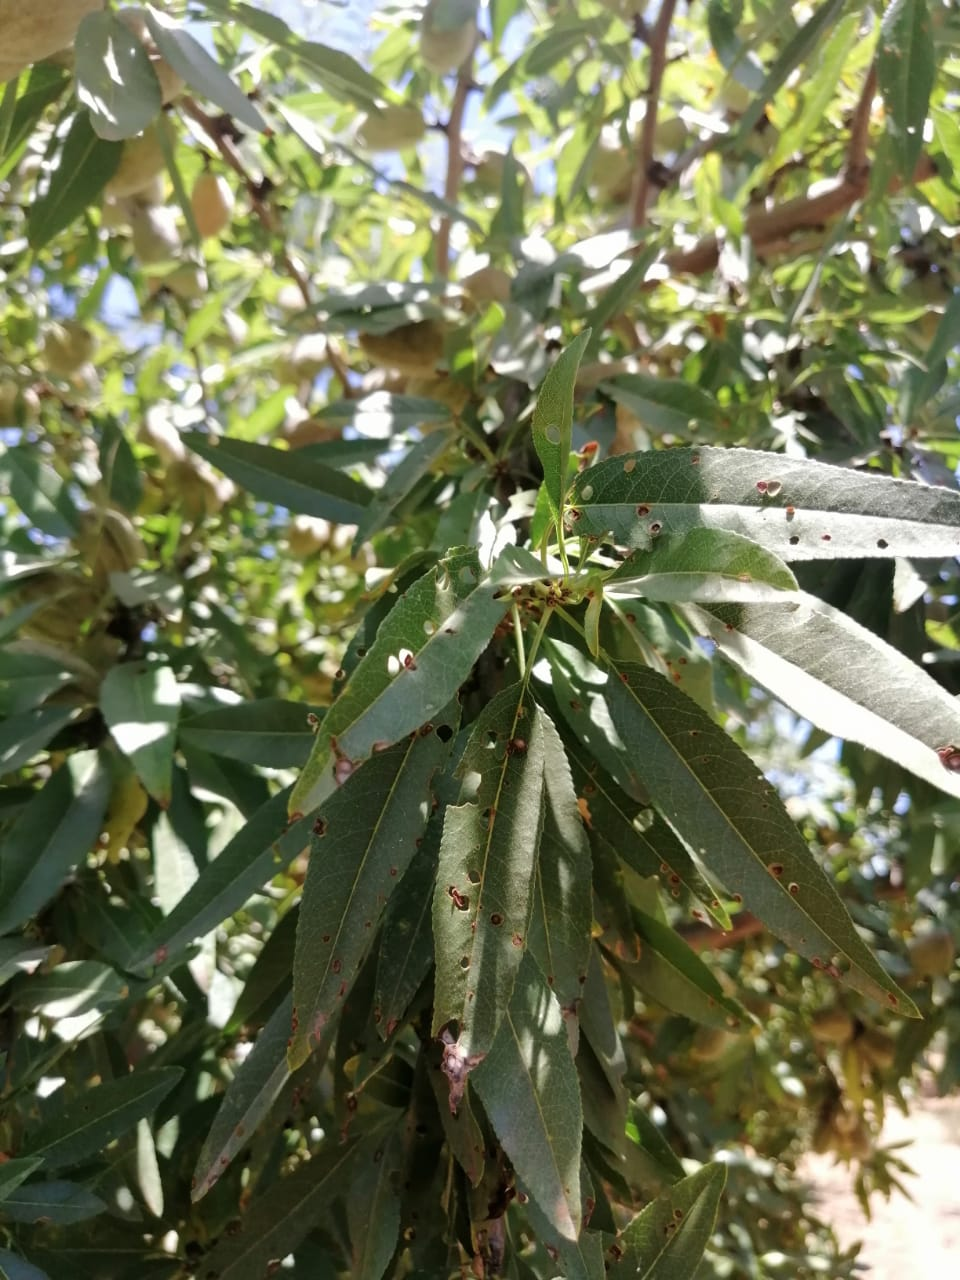coryneum: (609, 661, 924, 1023), (284, 684, 457, 1080), (284, 548, 513, 830), (426, 676, 549, 1118), (574, 444, 960, 561)
